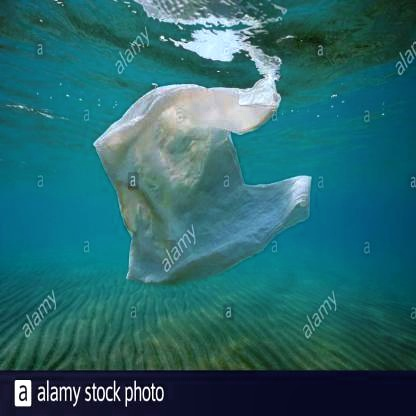pbag: (93, 74, 313, 285)
